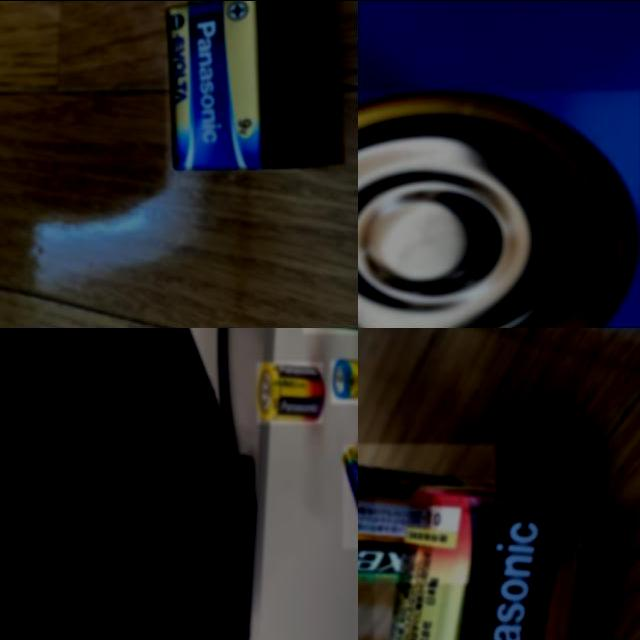9V: (166, 0, 298, 171)
